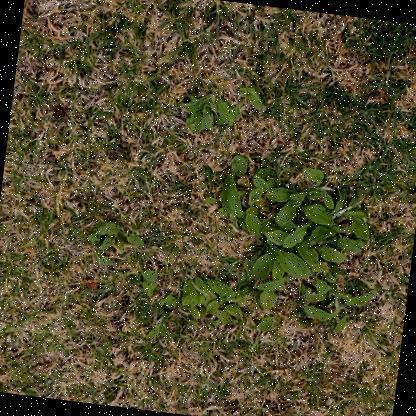Weeds: (145, 145, 385, 366), (84, 219, 164, 297), (175, 77, 265, 140)
